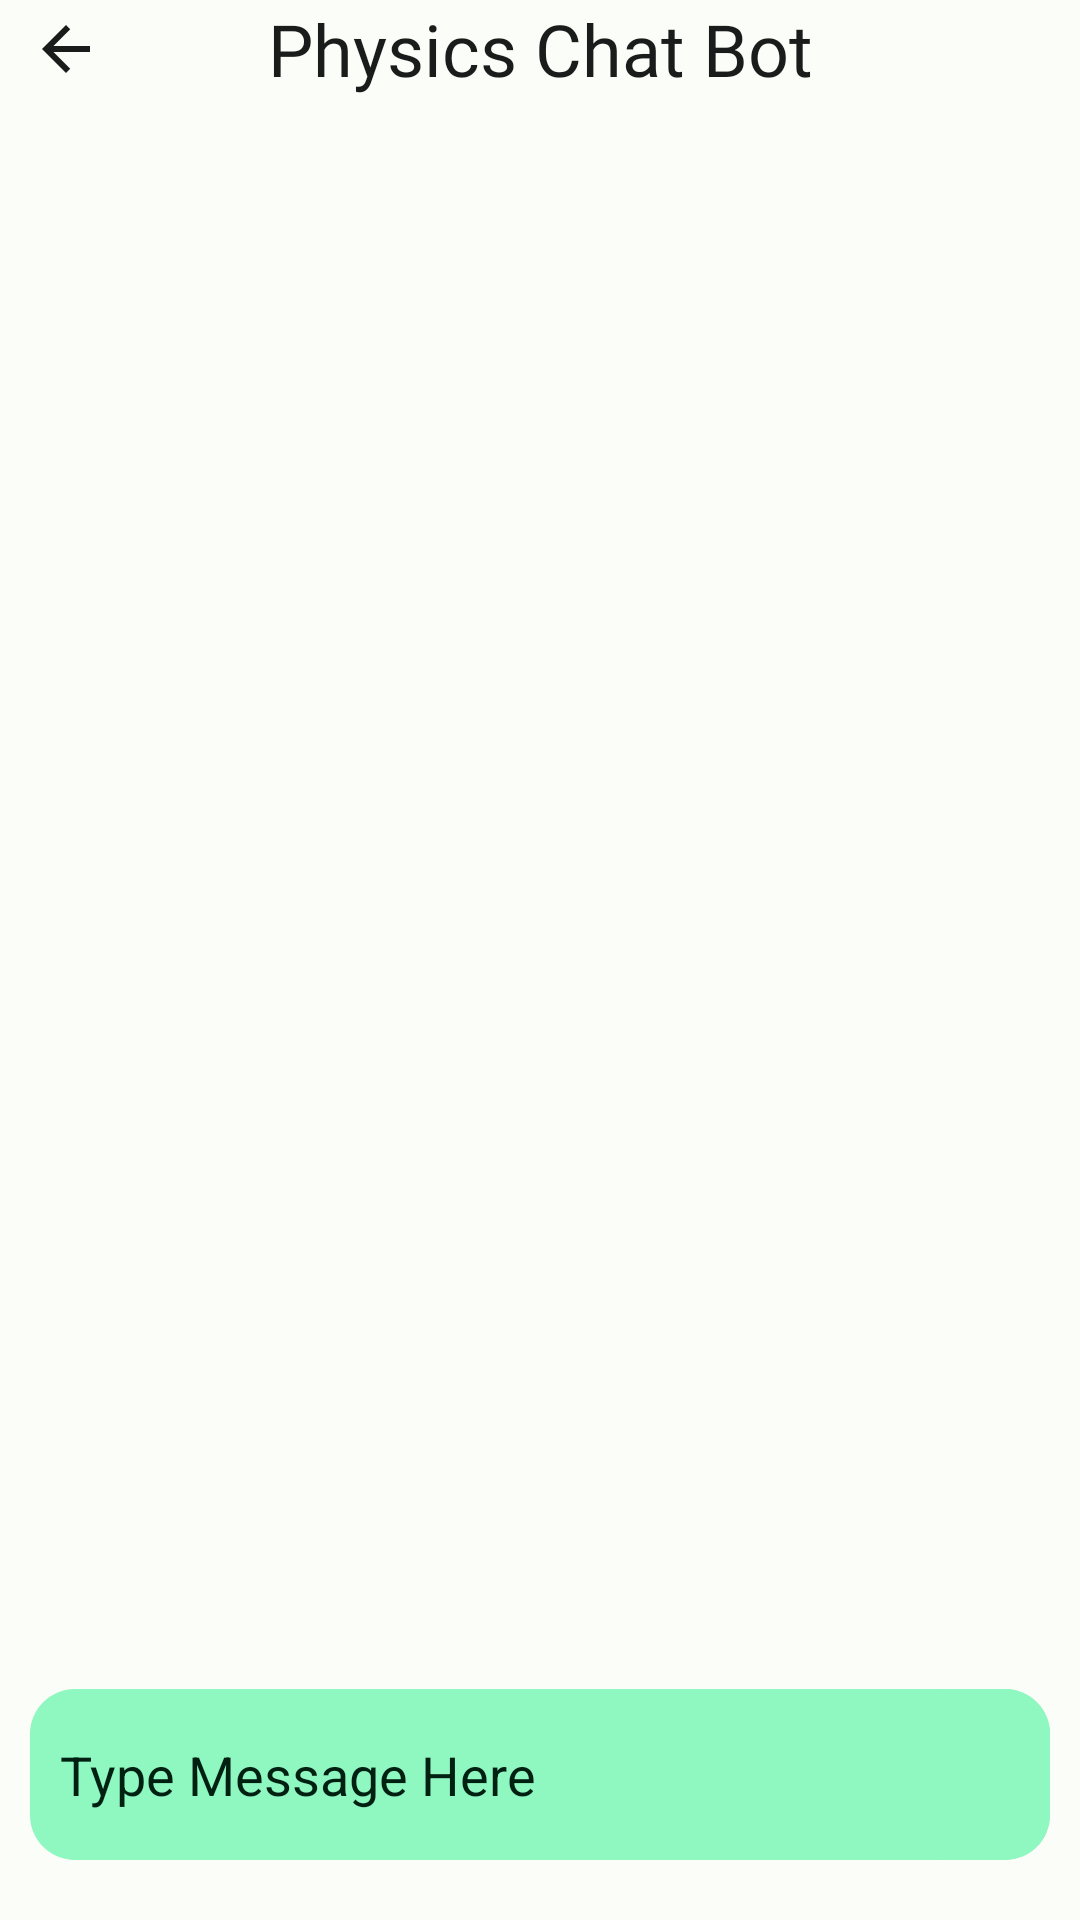

Named icons in this screenshot (1080x1920) and their bounding boxes, region(x1, y1, x2, y2):
arrow back: region(42, 25, 90, 73)
